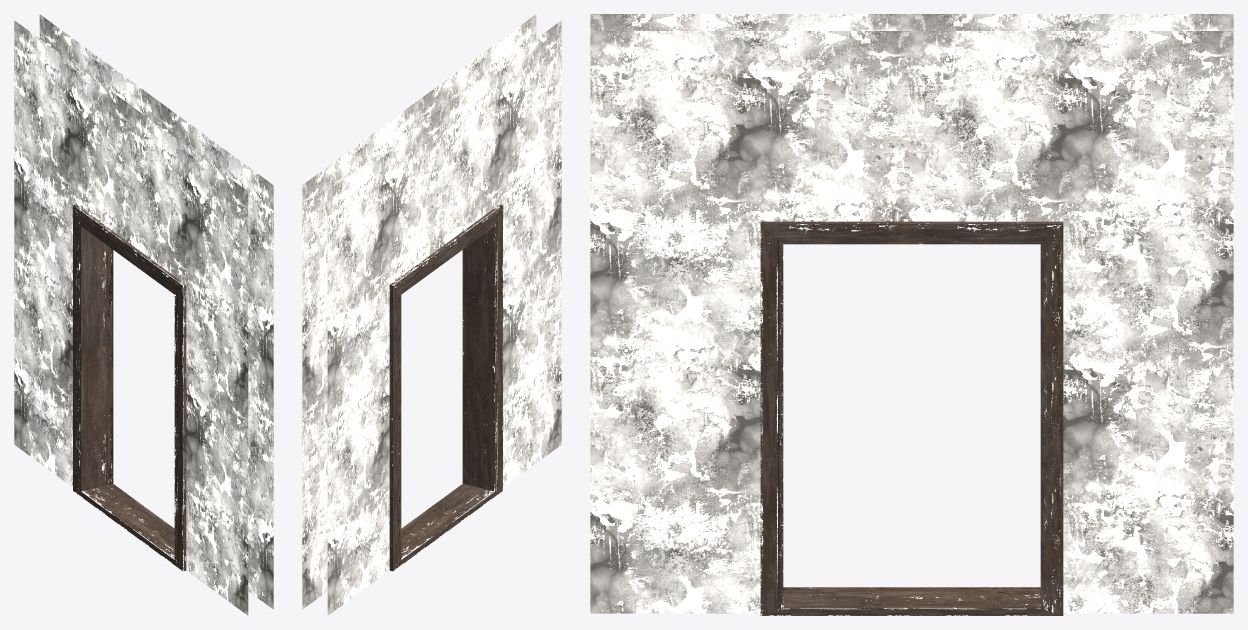
The model's file is SM_wall_A_int_doorway_4x4_01_01.fbx.
The picture shows the model from 3 angles, left to right: view 1: azimuth 30°, elevation 25°; view 2: azimuth 150°, elevation 25°; view 3: azimuth 270°, elevation 25°; orthographic projection. The views are drawn at different scales.
Visible parts, largest first — view 1: SM_wall_A_int_doorway_4x4_01_01_LOD0; view 2: SM_wall_A_int_doorway_4x4_01_01_LOD0; view 3: SM_wall_A_int_doorway_4x4_01_01_LOD0.
Boxes of the visible parts, x1,y1,x2,y2 form: SM_wall_A_int_doorway_4x4_01_01_LOD0: (14, 14, 273, 615); SM_wall_A_int_doorway_4x4_01_01_LOD0: (302, 14, 561, 615); SM_wall_A_int_doorway_4x4_01_01_LOD0: (590, 14, 1233, 615).
Size of the model in its own units: 31.62 by 400 by 400.
Materials: 2 (2 with a texture image).
